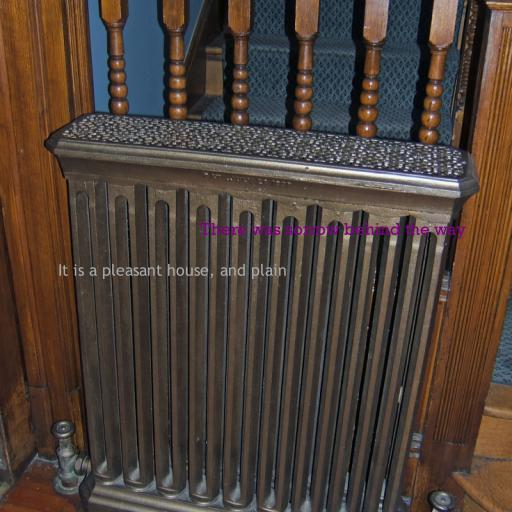Rockwell: (200, 222, 466, 239)
Trebuchet MS: (57, 263, 287, 280)
